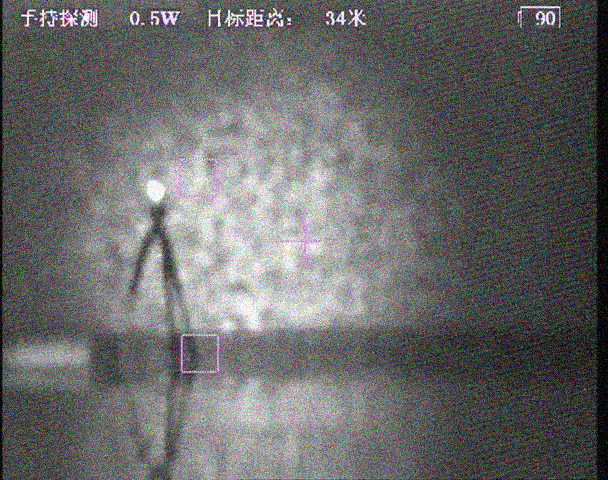my: (143, 177, 168, 203)
